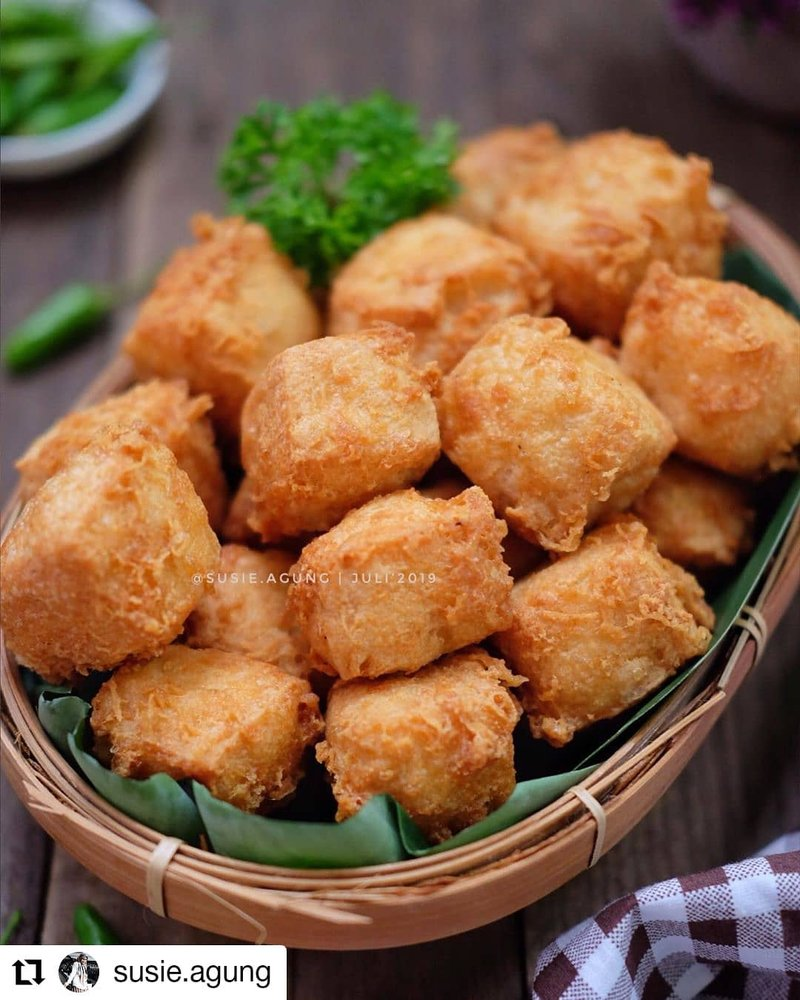Tahu: (12, 415, 198, 687), (277, 667, 525, 857), (453, 330, 647, 490), (255, 319, 410, 510), (294, 504, 486, 651), (535, 517, 678, 702), (153, 655, 306, 768)
